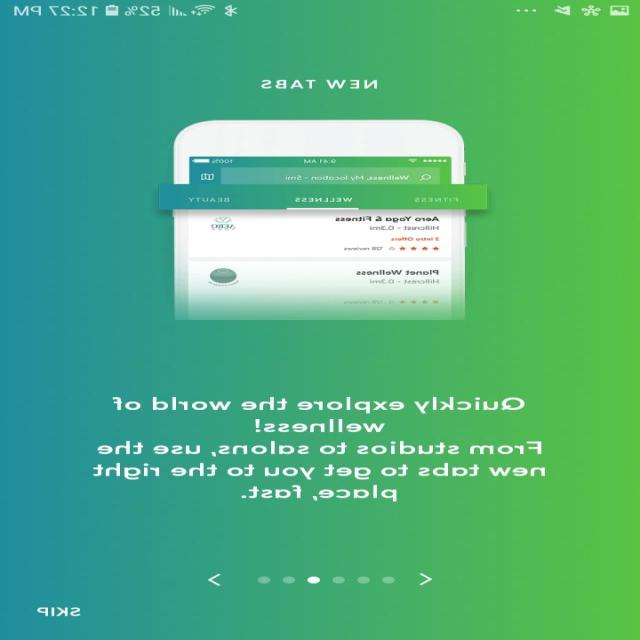Icon: (418, 572, 434, 585), (208, 573, 222, 586)
Image: (158, 119, 489, 320)
Text: (93, 396, 546, 502), (261, 80, 379, 89), (37, 607, 82, 616)
